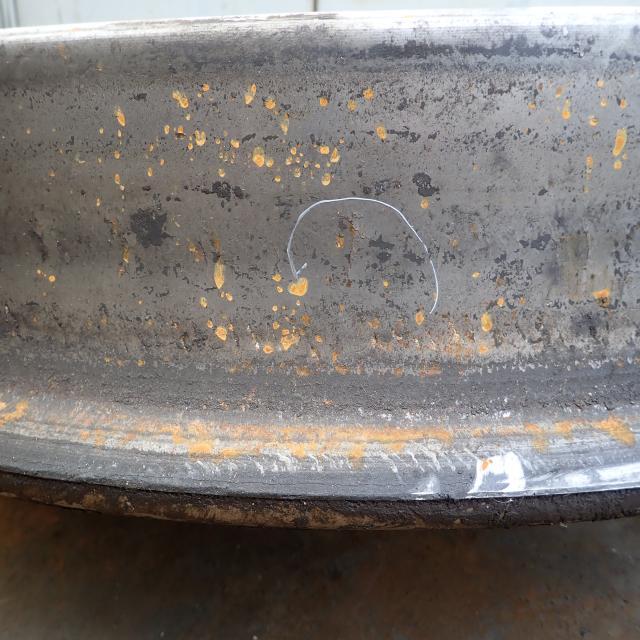Contact_Fatigue_Cracks: (564, 226, 590, 302), (348, 213, 358, 270)
Peeling: (179, 324, 210, 355)
